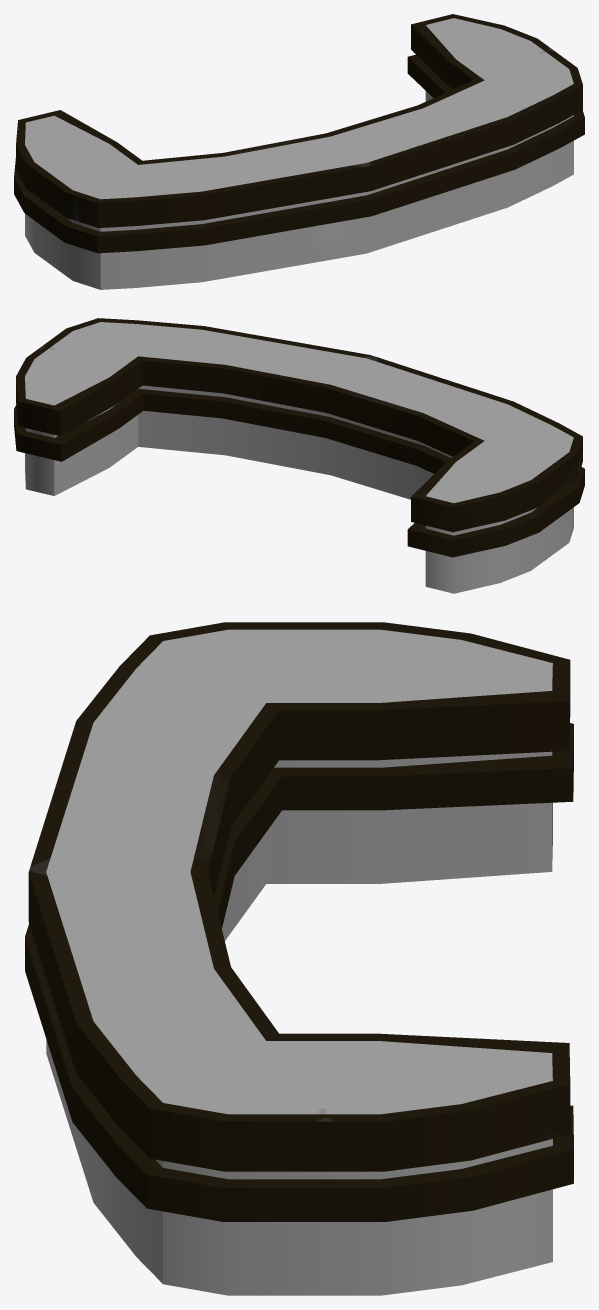
The model's file is Desk.fbx.
The picture shows the model from 3 angles, top to bottom: view 1: azimuth 30°, elevation 25°; view 2: azimuth 150°, elevation 25°; view 3: azimuth 270°, elevation 25°; orthographic projection. The views are drawn at different scales.
Visible parts, largest first — view 1: pCube6; view 2: pCube6; view 3: pCube6.
Part boxes in pixels (left/top/right/bottom): pCube6: left=14, top=14, right=584, bottom=289; pCube6: left=14, top=318, right=584, bottom=593; pCube6: left=25, top=622, right=573, bottom=1295.
Bounding box in the file's own units: 2080 × 350 × 961.
Materials: 1 (1 with a texture image).
